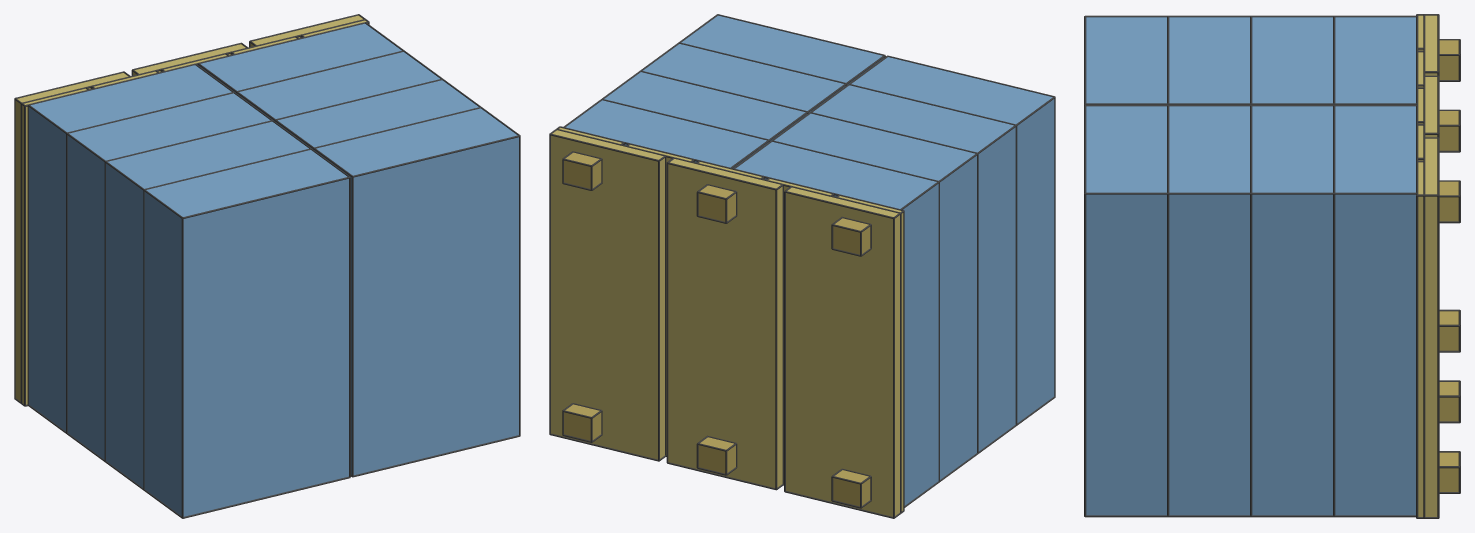
File: pallet_TG1LF02120.glb
3 renders of one model, left to right at view 1: azimuth 30°, elevation 25°; view 2: azimuth 150°, elevation 25°; view 3: azimuth 270°, elevation 25°, orthographic. The views are drawn at different scales.
Parts seen in each view (by area): view 1: world; view 2: world; view 3: world.
Part boxes in pixels (x1,y1,x2,y2): world: (14,14,520,518); world: (549,14,1055,518); world: (1084,14,1460,518).
Size of the model in its own units: 121 by 101 by 106.
